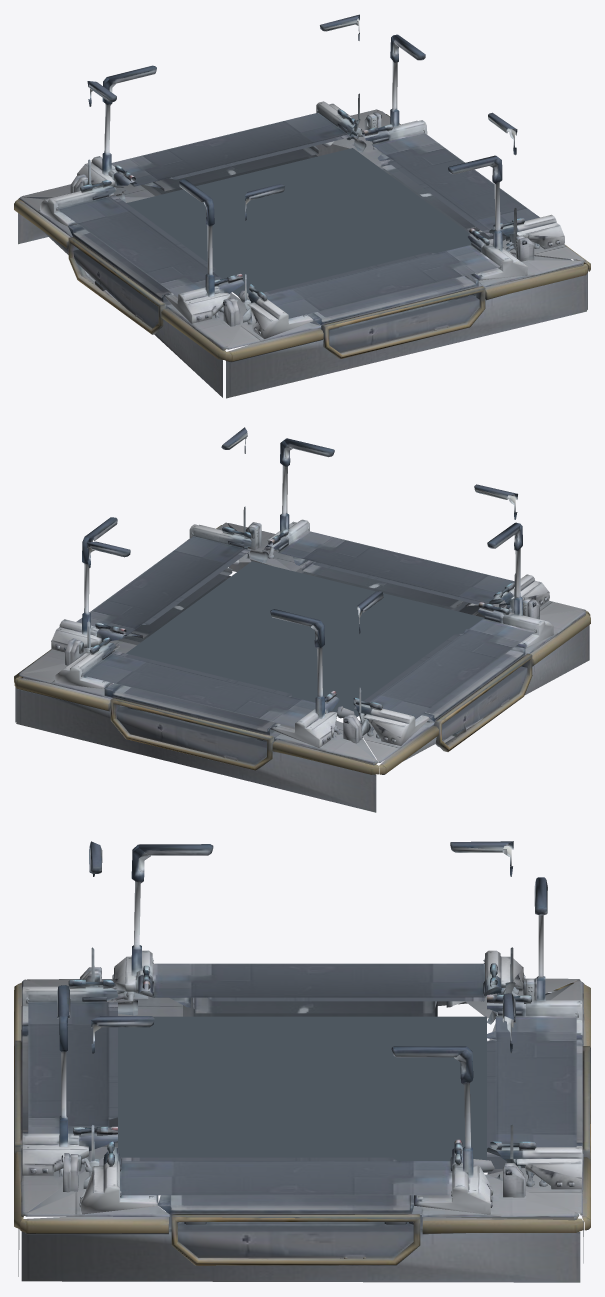
File: 城市_十字路口.glb
3 renders of one model, top to bottom at view 1: azimuth 30°, elevation 25°; view 2: azimuth 150°, elevation 25°; view 3: azimuth 270°, elevation 25°, orthographic. The views are drawn at different scales.
Parts seen in each view (by area): view 1: 城市_十字路口; view 2: 城市_十字路口; view 3: 城市_十字路口.
Part boxes in pixels (x1,y1,x2,y2): 城市_十字路口: (14, 14, 590, 398); 城市_十字路口: (14, 427, 590, 812); 城市_十字路口: (14, 841, 590, 1282).
Size of the model in its own units: 1 by 0.4443 by 1.
1 material, 1 textured.
